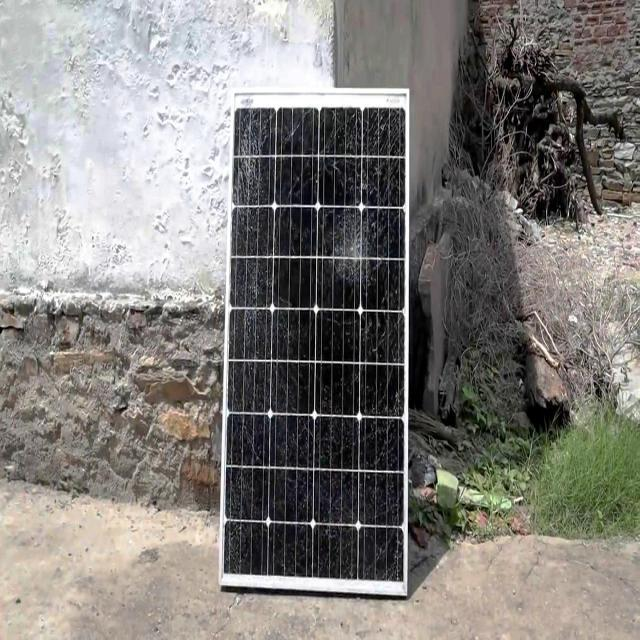faulty: (221, 86, 409, 594)
